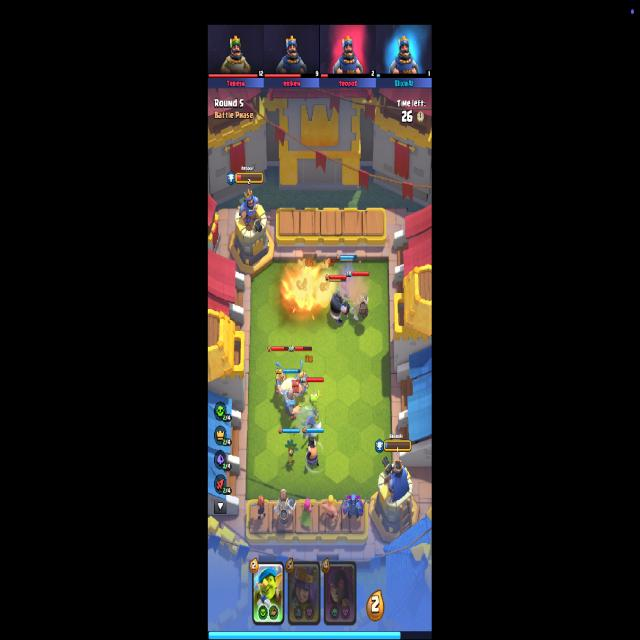archer: (300, 498, 314, 529)
barbarian: (322, 495, 346, 525)
card_archer_queen: (288, 561, 321, 627)
card_spear_goblin: (253, 560, 284, 627)
card_witch: (323, 560, 357, 626)
dart_goblin: (284, 438, 298, 468)
executioner: (305, 436, 319, 472)
giant_skeleton: (273, 489, 296, 528), (354, 290, 369, 323)
goblin: (305, 390, 320, 417)
knight: (282, 386, 301, 424)
mega_knight: (327, 286, 351, 327)
pekka: (341, 494, 366, 522)
prince: (293, 357, 308, 401), (274, 365, 287, 400)
valkyrie: (251, 498, 268, 524)
